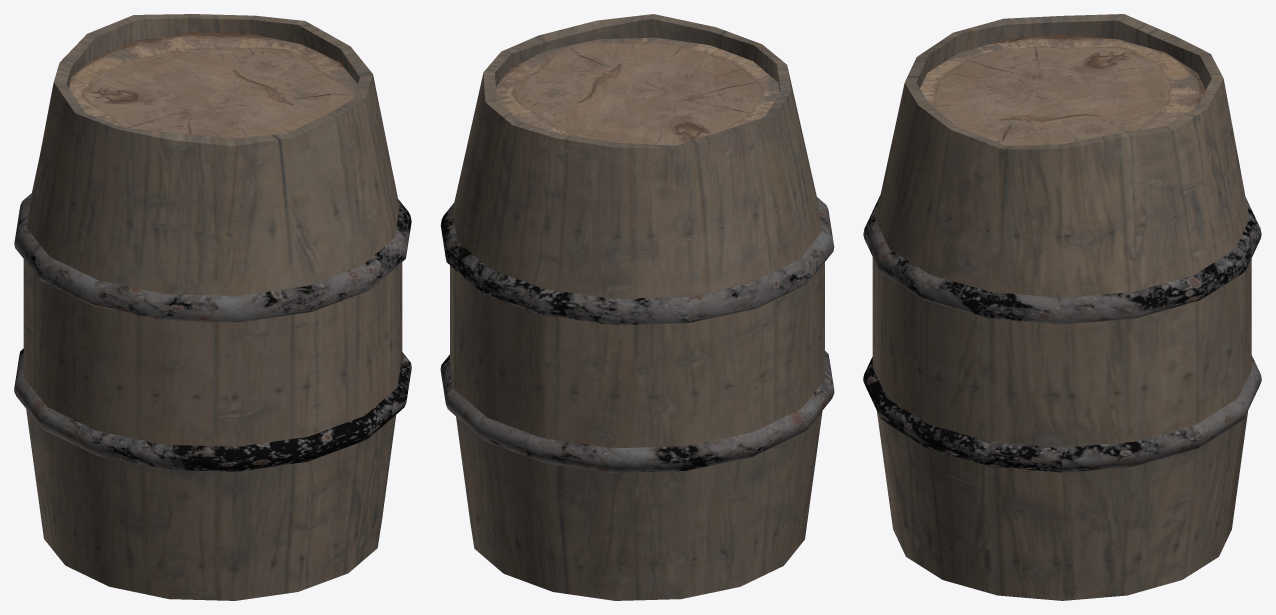
File: BRL1.fbx
The picture shows the model from 3 angles, left to right: view 1: azimuth 30°, elevation 25°; view 2: azimuth 150°, elevation 25°; view 3: azimuth 270°, elevation 25°; orthographic projection.
Parts seen in each view (by area): view 1: Cylinder; view 2: Cylinder; view 3: Cylinder.
Boxes of the visible parts, x1,y1,x2,y2 form: Cylinder: [14, 14, 411, 600]; Cylinder: [440, 14, 834, 600]; Cylinder: [863, 14, 1261, 600].
Size of the model in its own units: 162 by 203 by 162.
